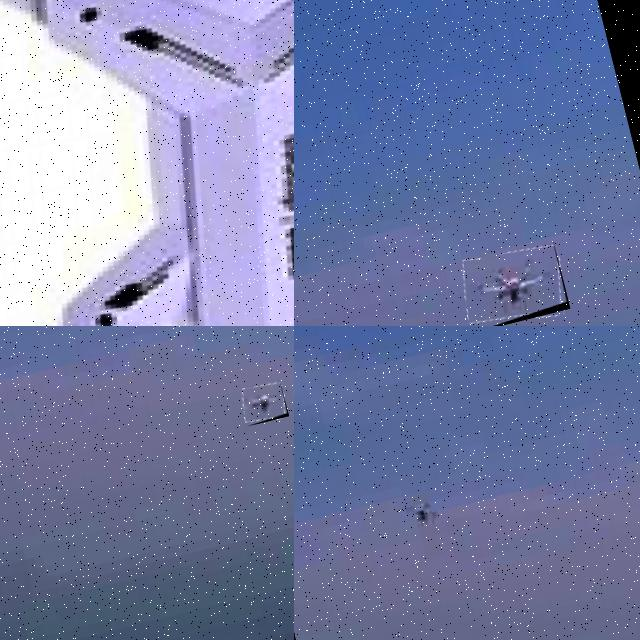0: (456, 240, 570, 326), (238, 380, 288, 426)
drone: (0, 0, 294, 326)
